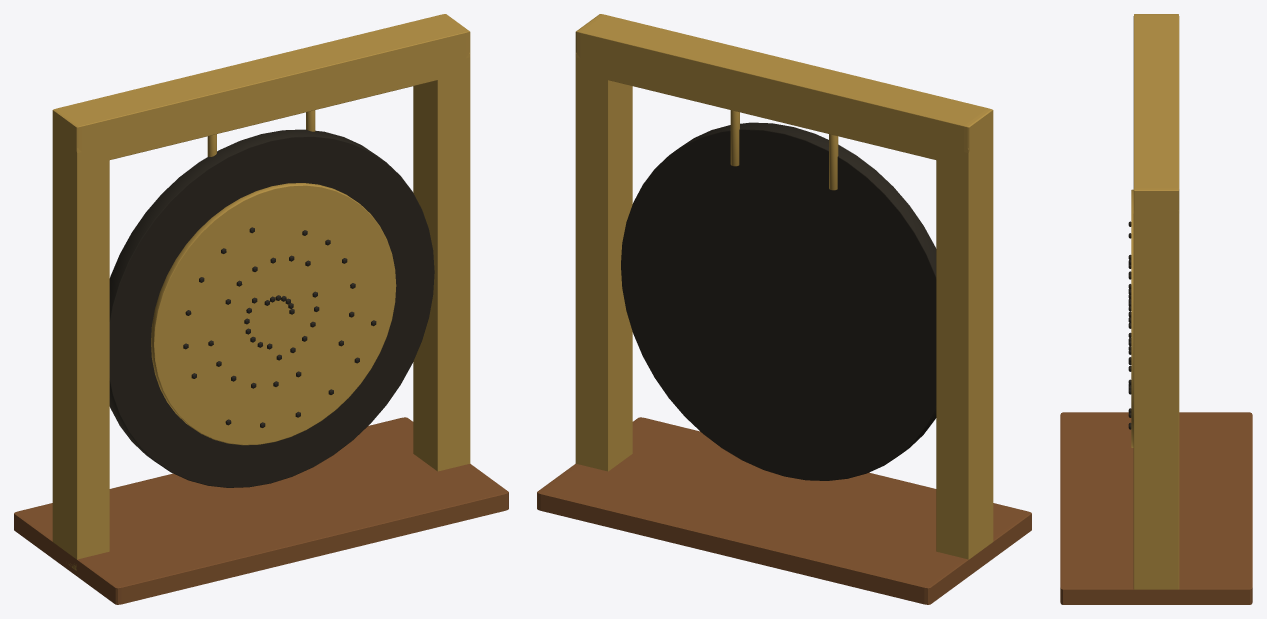
3 renders of one model, left to right at view 1: azimuth 30°, elevation 25°; view 2: azimuth 150°, elevation 25°; view 3: azimuth 270°, elevation 25°, orthographic. The views are drawn at different scales.
Parts seen in each view (by area): view 1: TI057 / gold sounding disc, TI057 / black gong rim, TI057 / gong display footing, TI057 / frame top crossbar, TI057 / ornate frame upright, TI057 / ornate frame upright.001; view 2: TI057 / black gong rim, TI057 / gong display footing, TI057 / frame top crossbar, TI057 / ornate frame upright, TI057 / ornate frame upright.001; view 3: TI057 / gong display footing, TI057 / ornate frame upright.001, TI057 / frame top crossbar, TI057 / gold sounding disc.
Boxes of the visible parts, x1,y1,x2,y2 form: TI057 / gold sounding disc: (151,183,396,445); TI057 / black gong rim: (109,129,434,487); TI057 / gong display footing: (14,417,508,604); TI057 / frame top crossbar: (52,14,470,167); TI057 / ornate frame upright: (52,140,109,570); TI057 / ornate frame upright.001: (413,52,470,471); TI057 / black gong rim: (621,122,936,480); TI057 / gong display footing: (537,417,1031,604); TI057 / frame top crossbar: (575,14,993,167); TI057 / ornate frame upright: (936,136,993,559); TI057 / ornate frame upright.001: (575,52,632,471); TI057 / gong display footing: (1060,412,1252,604); TI057 / ornate frame upright.001: (1133,210,1179,589); TI057 / frame top crossbar: (1133,14,1179,227); TI057 / gold sounding disc: (1131,189,1133,447).
Bounding box in the file's own units: 2.4 × 2.62 × 1.1.
